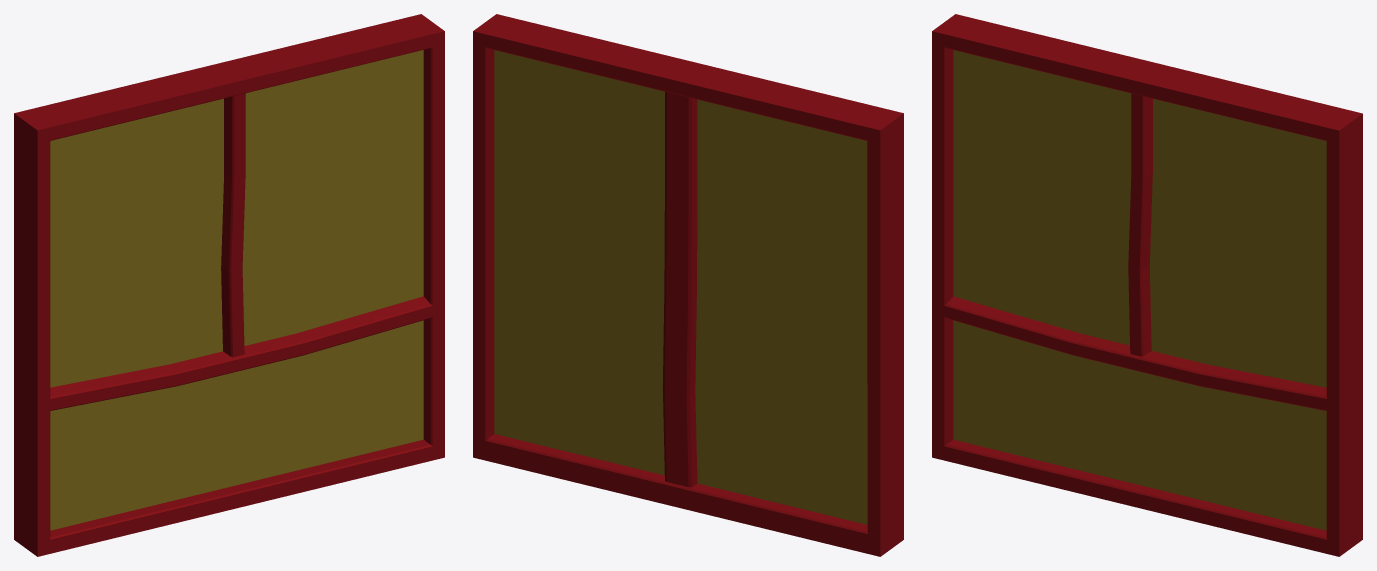
The model's file is SM_MH_01_Plaster_Wall_04.fbx.
The picture shows the model from 3 angles, left to right: view 1: azimuth 30°, elevation 25°; view 2: azimuth 150°, elevation 25°; view 3: azimuth 330°, elevation 25°; orthographic projection.
Visible parts, largest first — view 1: SM_MH_01_Plaster_Wall_04_LOD0; view 2: SM_MH_01_Plaster_Wall_04_LOD0; view 3: SM_MH_01_Plaster_Wall_04_LOD0.
Boxes of the visible parts, x1,y1,x2,y2 form: SM_MH_01_Plaster_Wall_04_LOD0: (14,14,444,556); SM_MH_01_Plaster_Wall_04_LOD0: (473,14,903,556); SM_MH_01_Plaster_Wall_04_LOD0: (932,14,1362,556).
Size of what is drawn, in the model's own units: 300 by 300 by 30.
